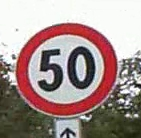limite 50: (14, 22, 117, 117)
